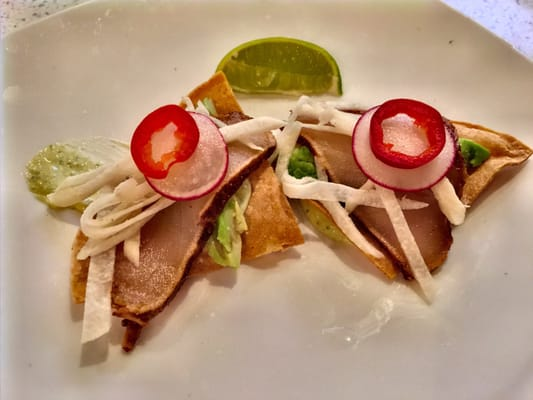soup: (350, 99, 532, 229)
